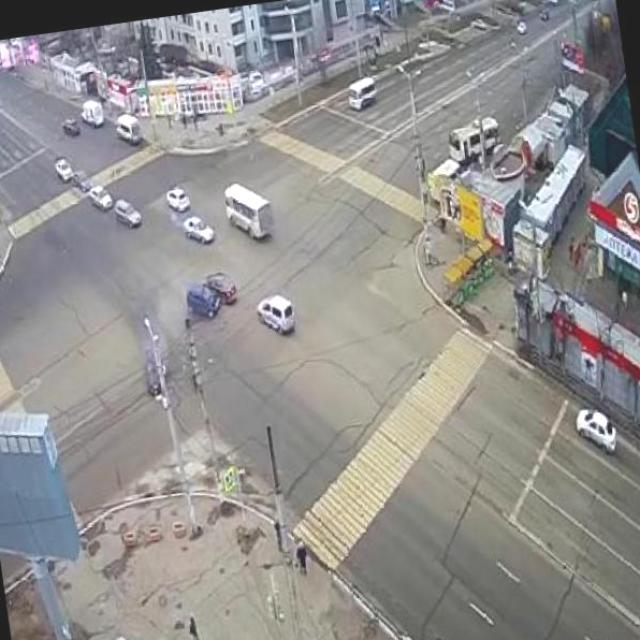accident: (196, 272, 231, 308)
